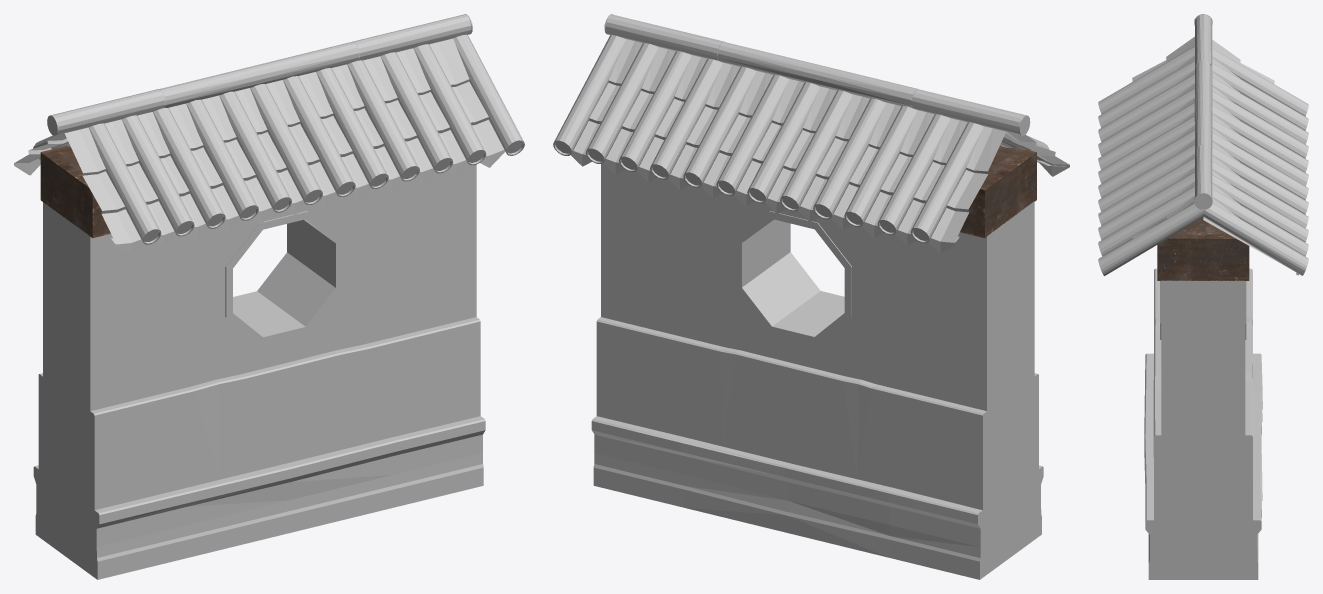
File: GongTingWall_3.fbx
The picture shows the model from 3 angles, left to right: view 1: azimuth 30°, elevation 25°; view 2: azimuth 150°, elevation 25°; view 3: azimuth 270°, elevation 25°; orthographic projection. The views are drawn at different scales.
Parts seen in each view (by area): view 1: 3D_GongTingWall4.mo; view 2: 3D_GongTingWall4.mo; view 3: 3D_GongTingWall4.mo.
Part boxes in pixels (left/top/right/bottom): 3D_GongTingWall4.mo: left=14, top=14, right=524, bottom=579; 3D_GongTingWall4.mo: left=553, top=14, right=1069, bottom=579; 3D_GongTingWall4.mo: left=1098, top=14, right=1308, bottom=579.
Bounding box in the file's own units: 500 × 512 × 248.
